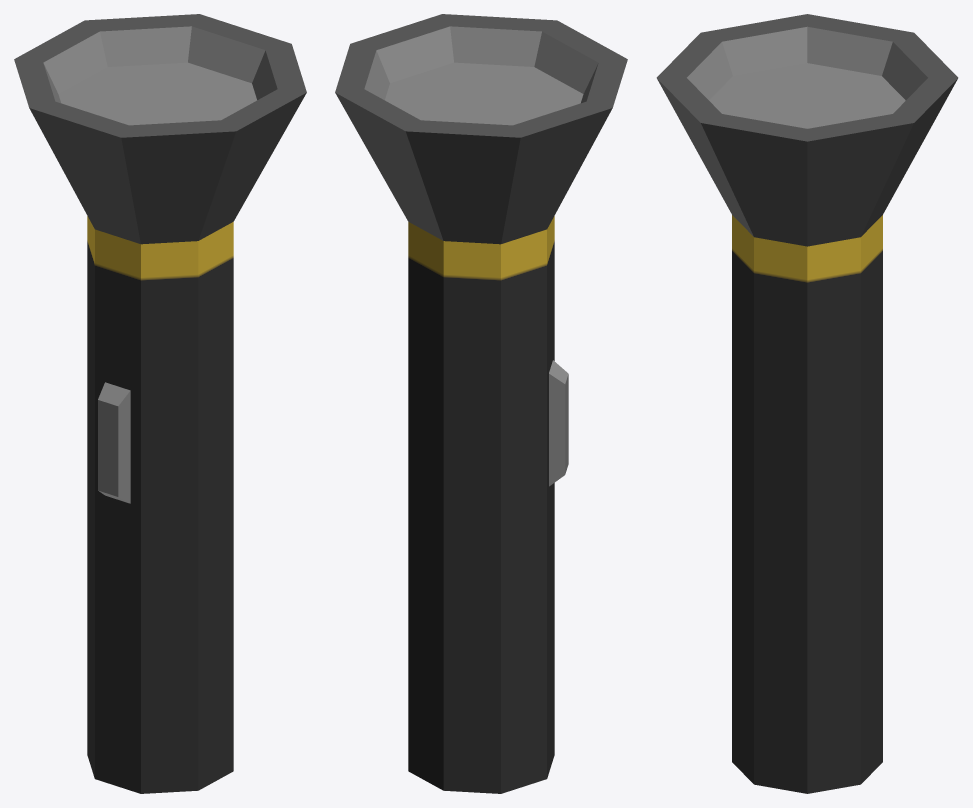
The model's file is flashlight_textured.fbx.
3 renders of one model, left to right at view 1: azimuth 30°, elevation 25°; view 2: azimuth 150°, elevation 25°; view 3: azimuth 270°, elevation 25°, orthographic.
Visible parts, largest first — view 1: Circle; view 2: Circle; view 3: Circle.
Boxes of the visible parts, x1,y1,x2,y2 form: Circle: [14, 14, 306, 793]; Circle: [335, 14, 627, 793]; Circle: [656, 14, 958, 793].
Size of the model in its own units: 80.09 by 200 by 80.09.
